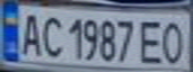1: (63, 13, 84, 60)
7: (115, 16, 139, 63)
8: (97, 16, 118, 62)
9: (78, 15, 100, 61)
A: (15, 10, 45, 57)
C: (39, 11, 66, 58)
E: (136, 17, 166, 64)
O: (157, 17, 190, 65)
